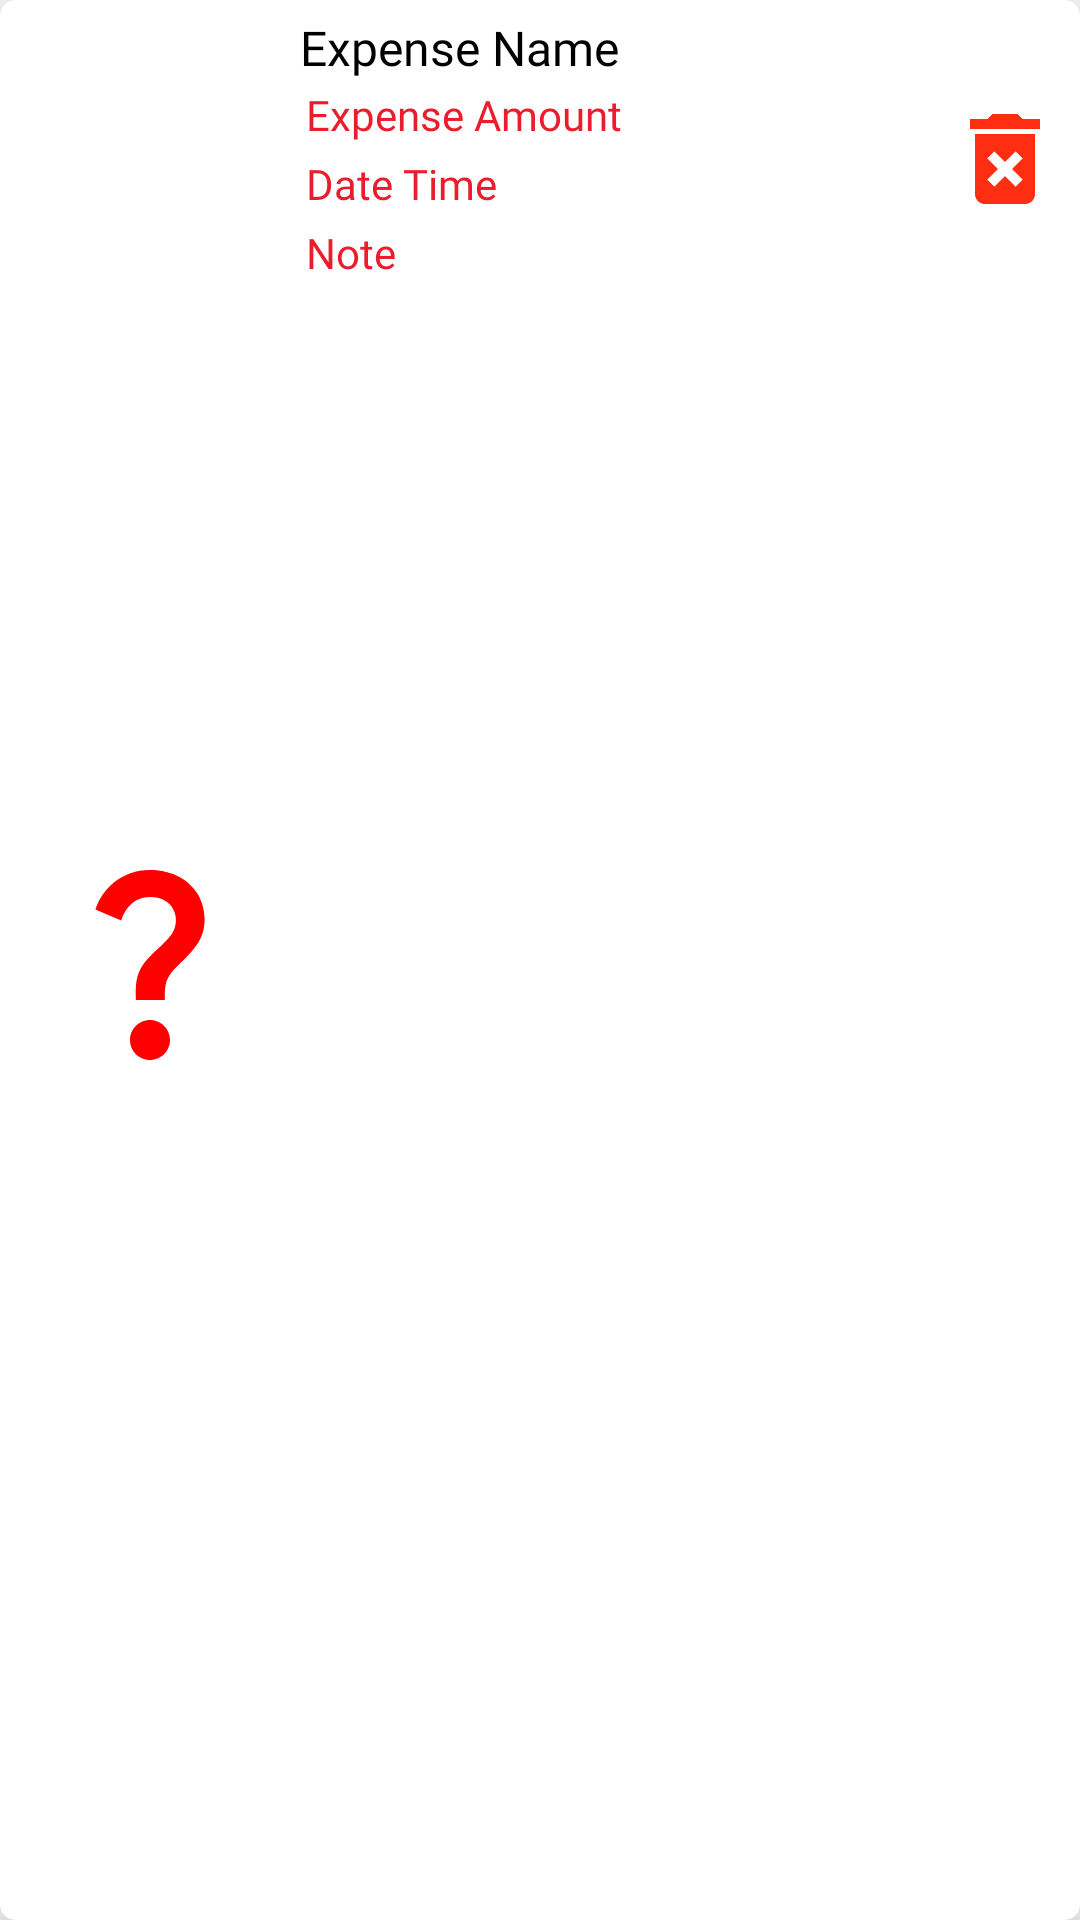

Point at icon controls on the screen. Image size 1080*1920, points as point (x, y).
Want to Delete Expense ?: point (1005, 159)
